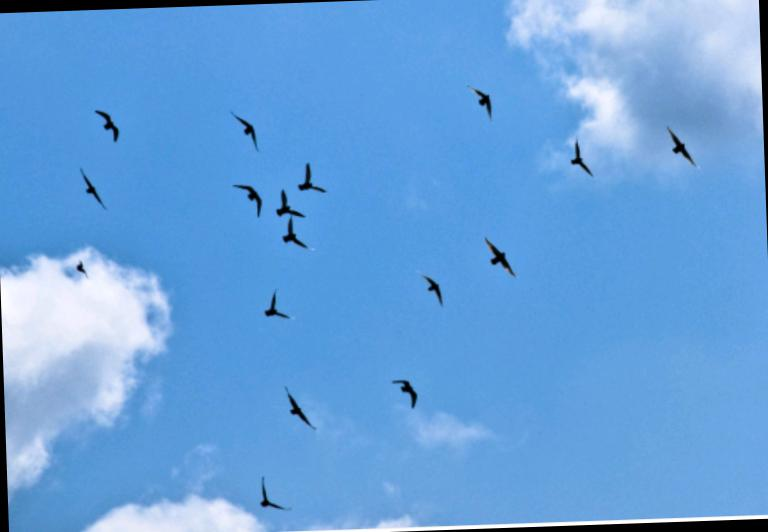bird: (456, 73, 498, 136), (252, 281, 296, 340), (376, 368, 426, 416)
